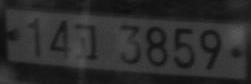1: (23, 16, 46, 56)
3: (118, 23, 142, 65)
4: (48, 18, 72, 60)
5: (172, 27, 196, 69)
8: (145, 25, 168, 67)
9: (198, 28, 222, 69)
고: (73, 24, 99, 61)
